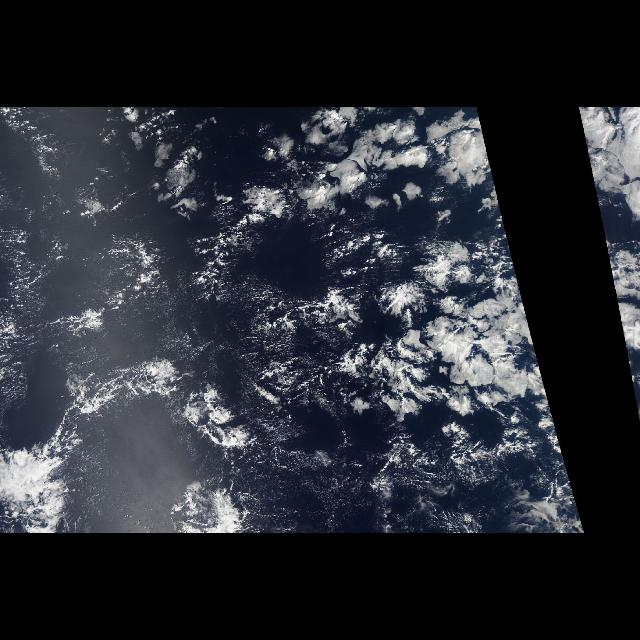Fish: (25, 340, 199, 474)
Flower: (118, 108, 504, 230), (295, 276, 553, 416)
Sugar: (1, 227, 287, 445)
